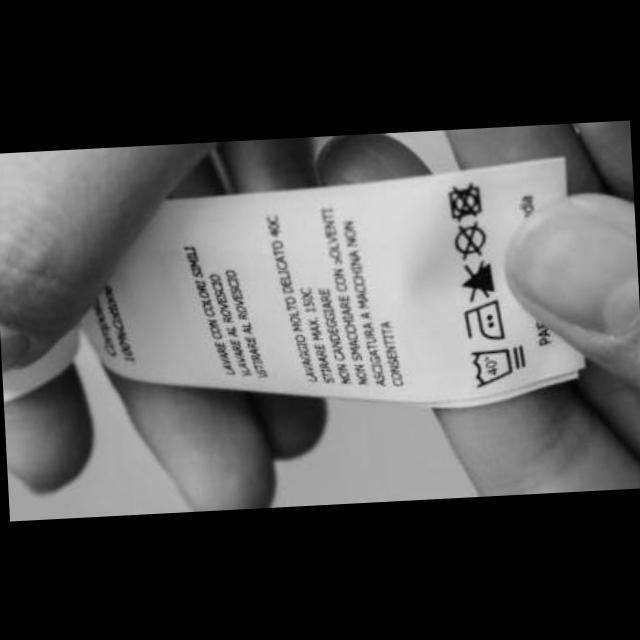40C: (468, 343, 529, 390)
DN_bleach: (458, 256, 498, 303)
DN_dry_clean: (452, 216, 490, 260)
DN_tumble_dry: (446, 178, 486, 222)
iron_medium: (460, 296, 506, 343)
